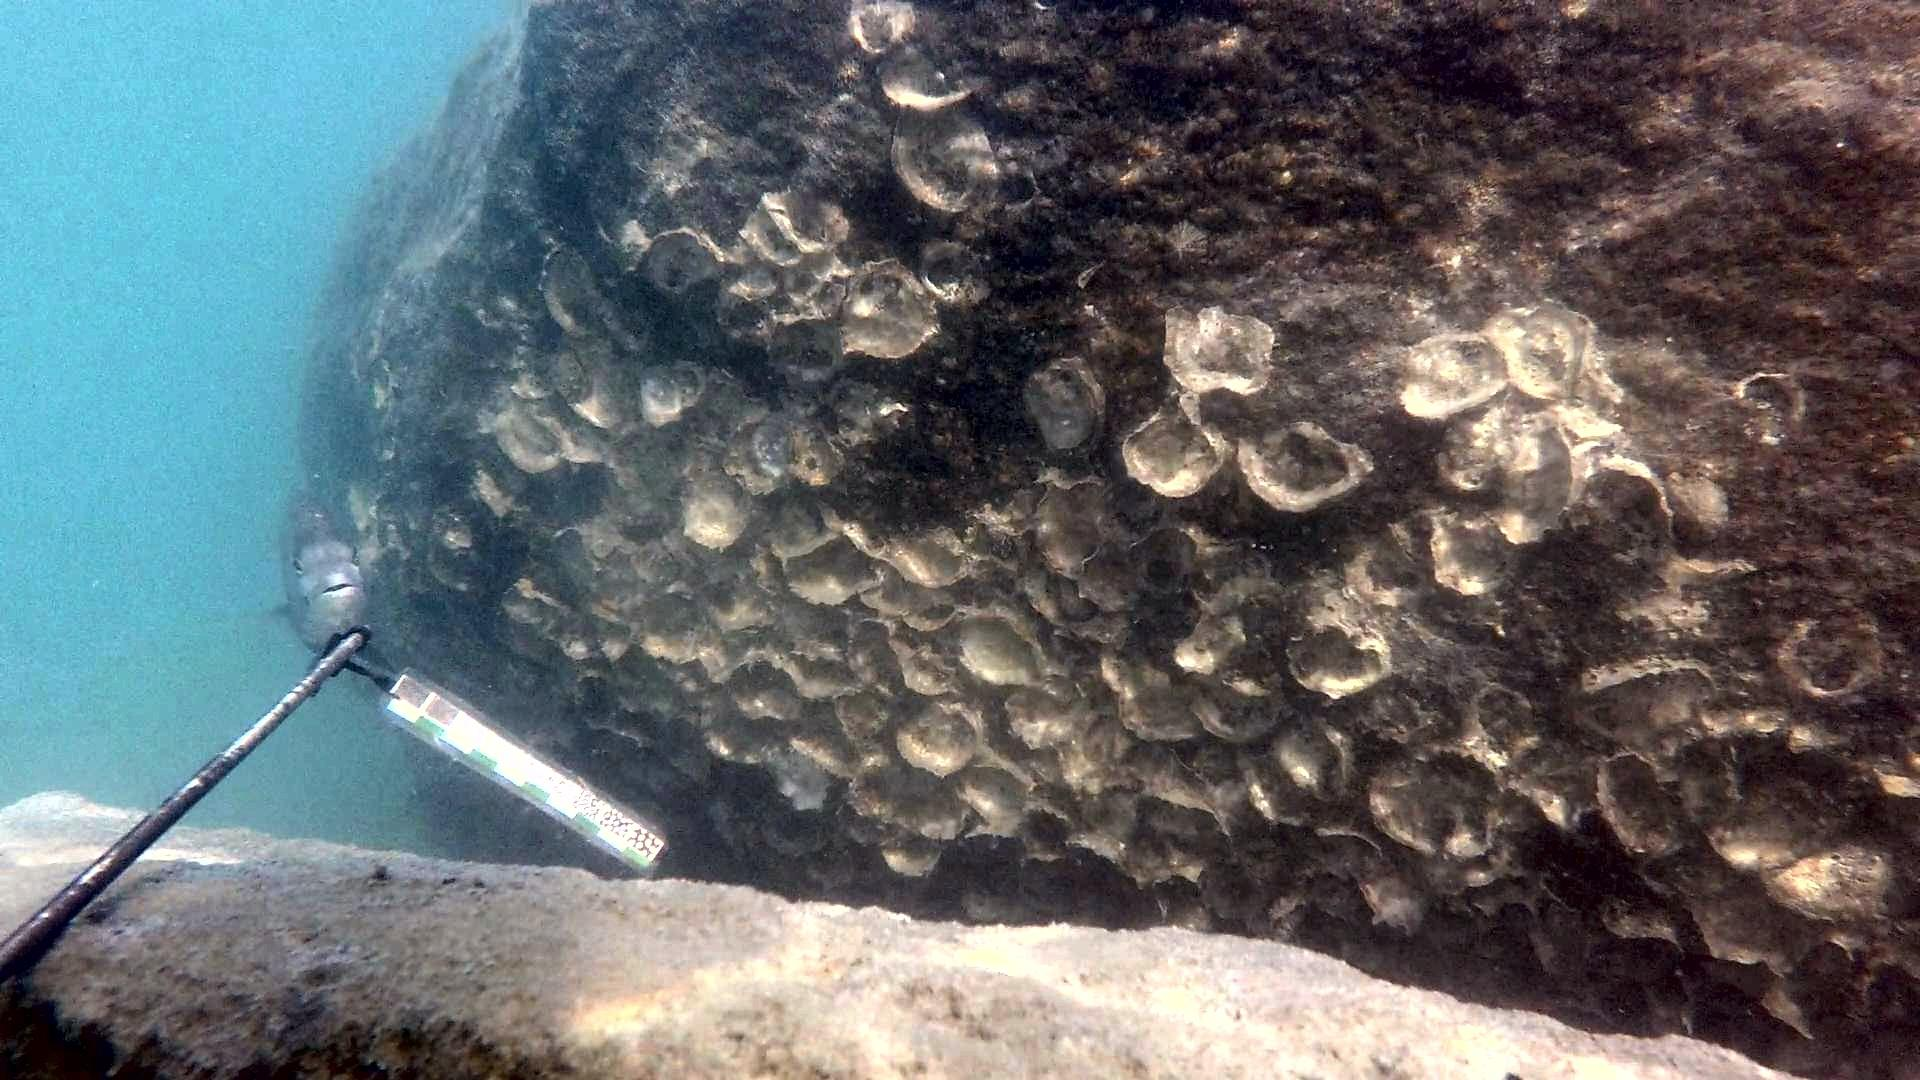acanthopagrus palmaris: (270, 471, 400, 671)
